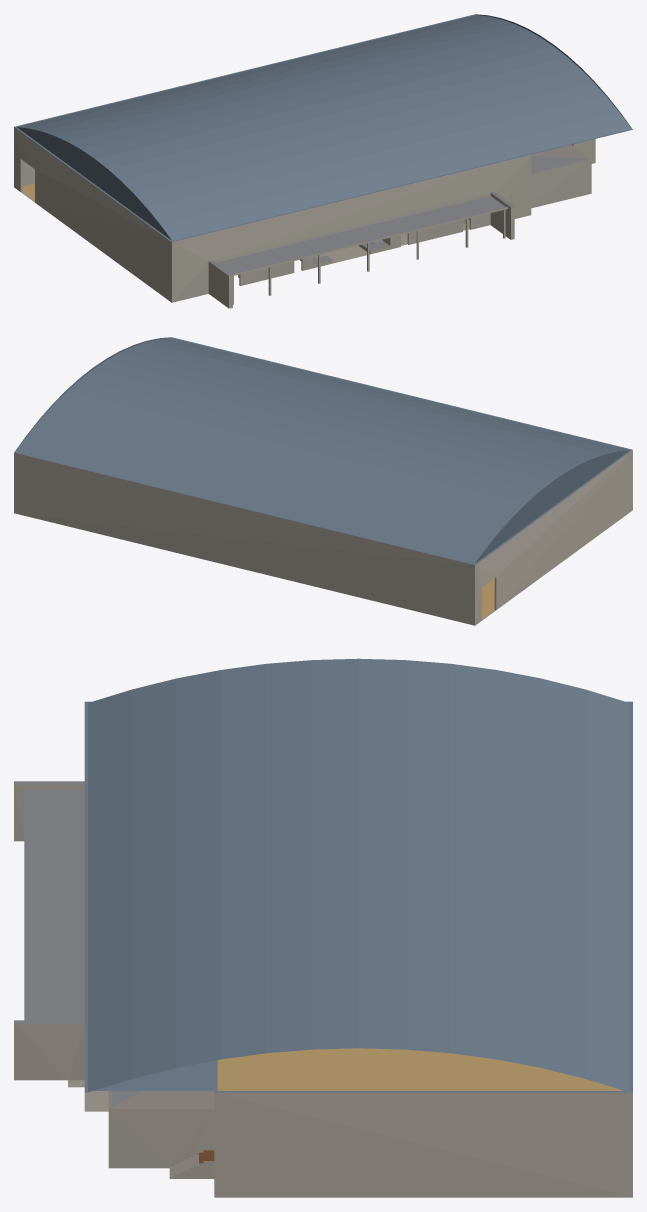
Rendered from auditorio.glb.
The picture shows the model from 3 angles, top to bottom: view 1: azimuth 30°, elevation 25°; view 2: azimuth 150°, elevation 25°; view 3: azimuth 270°, elevation 25°; orthographic projection. The views are drawn at different scales.
Parts seen in each view (by area): view 1: building; view 2: building; view 3: building.
Part boxes in pixels (bbox=[...]): building: bbox=[14, 14, 632, 308]; building: bbox=[14, 337, 632, 625]; building: bbox=[14, 658, 632, 1197].
Bounding box in the file's own units: 55 × 10 × 36.8.
